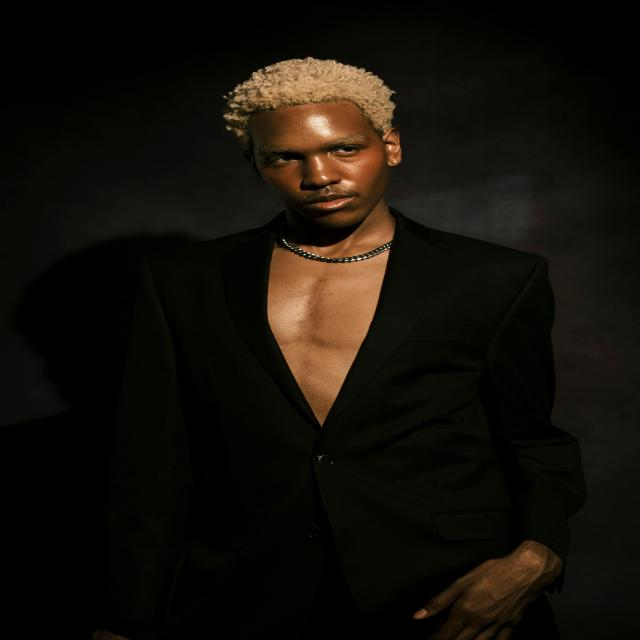human: (98, 44, 580, 640)
